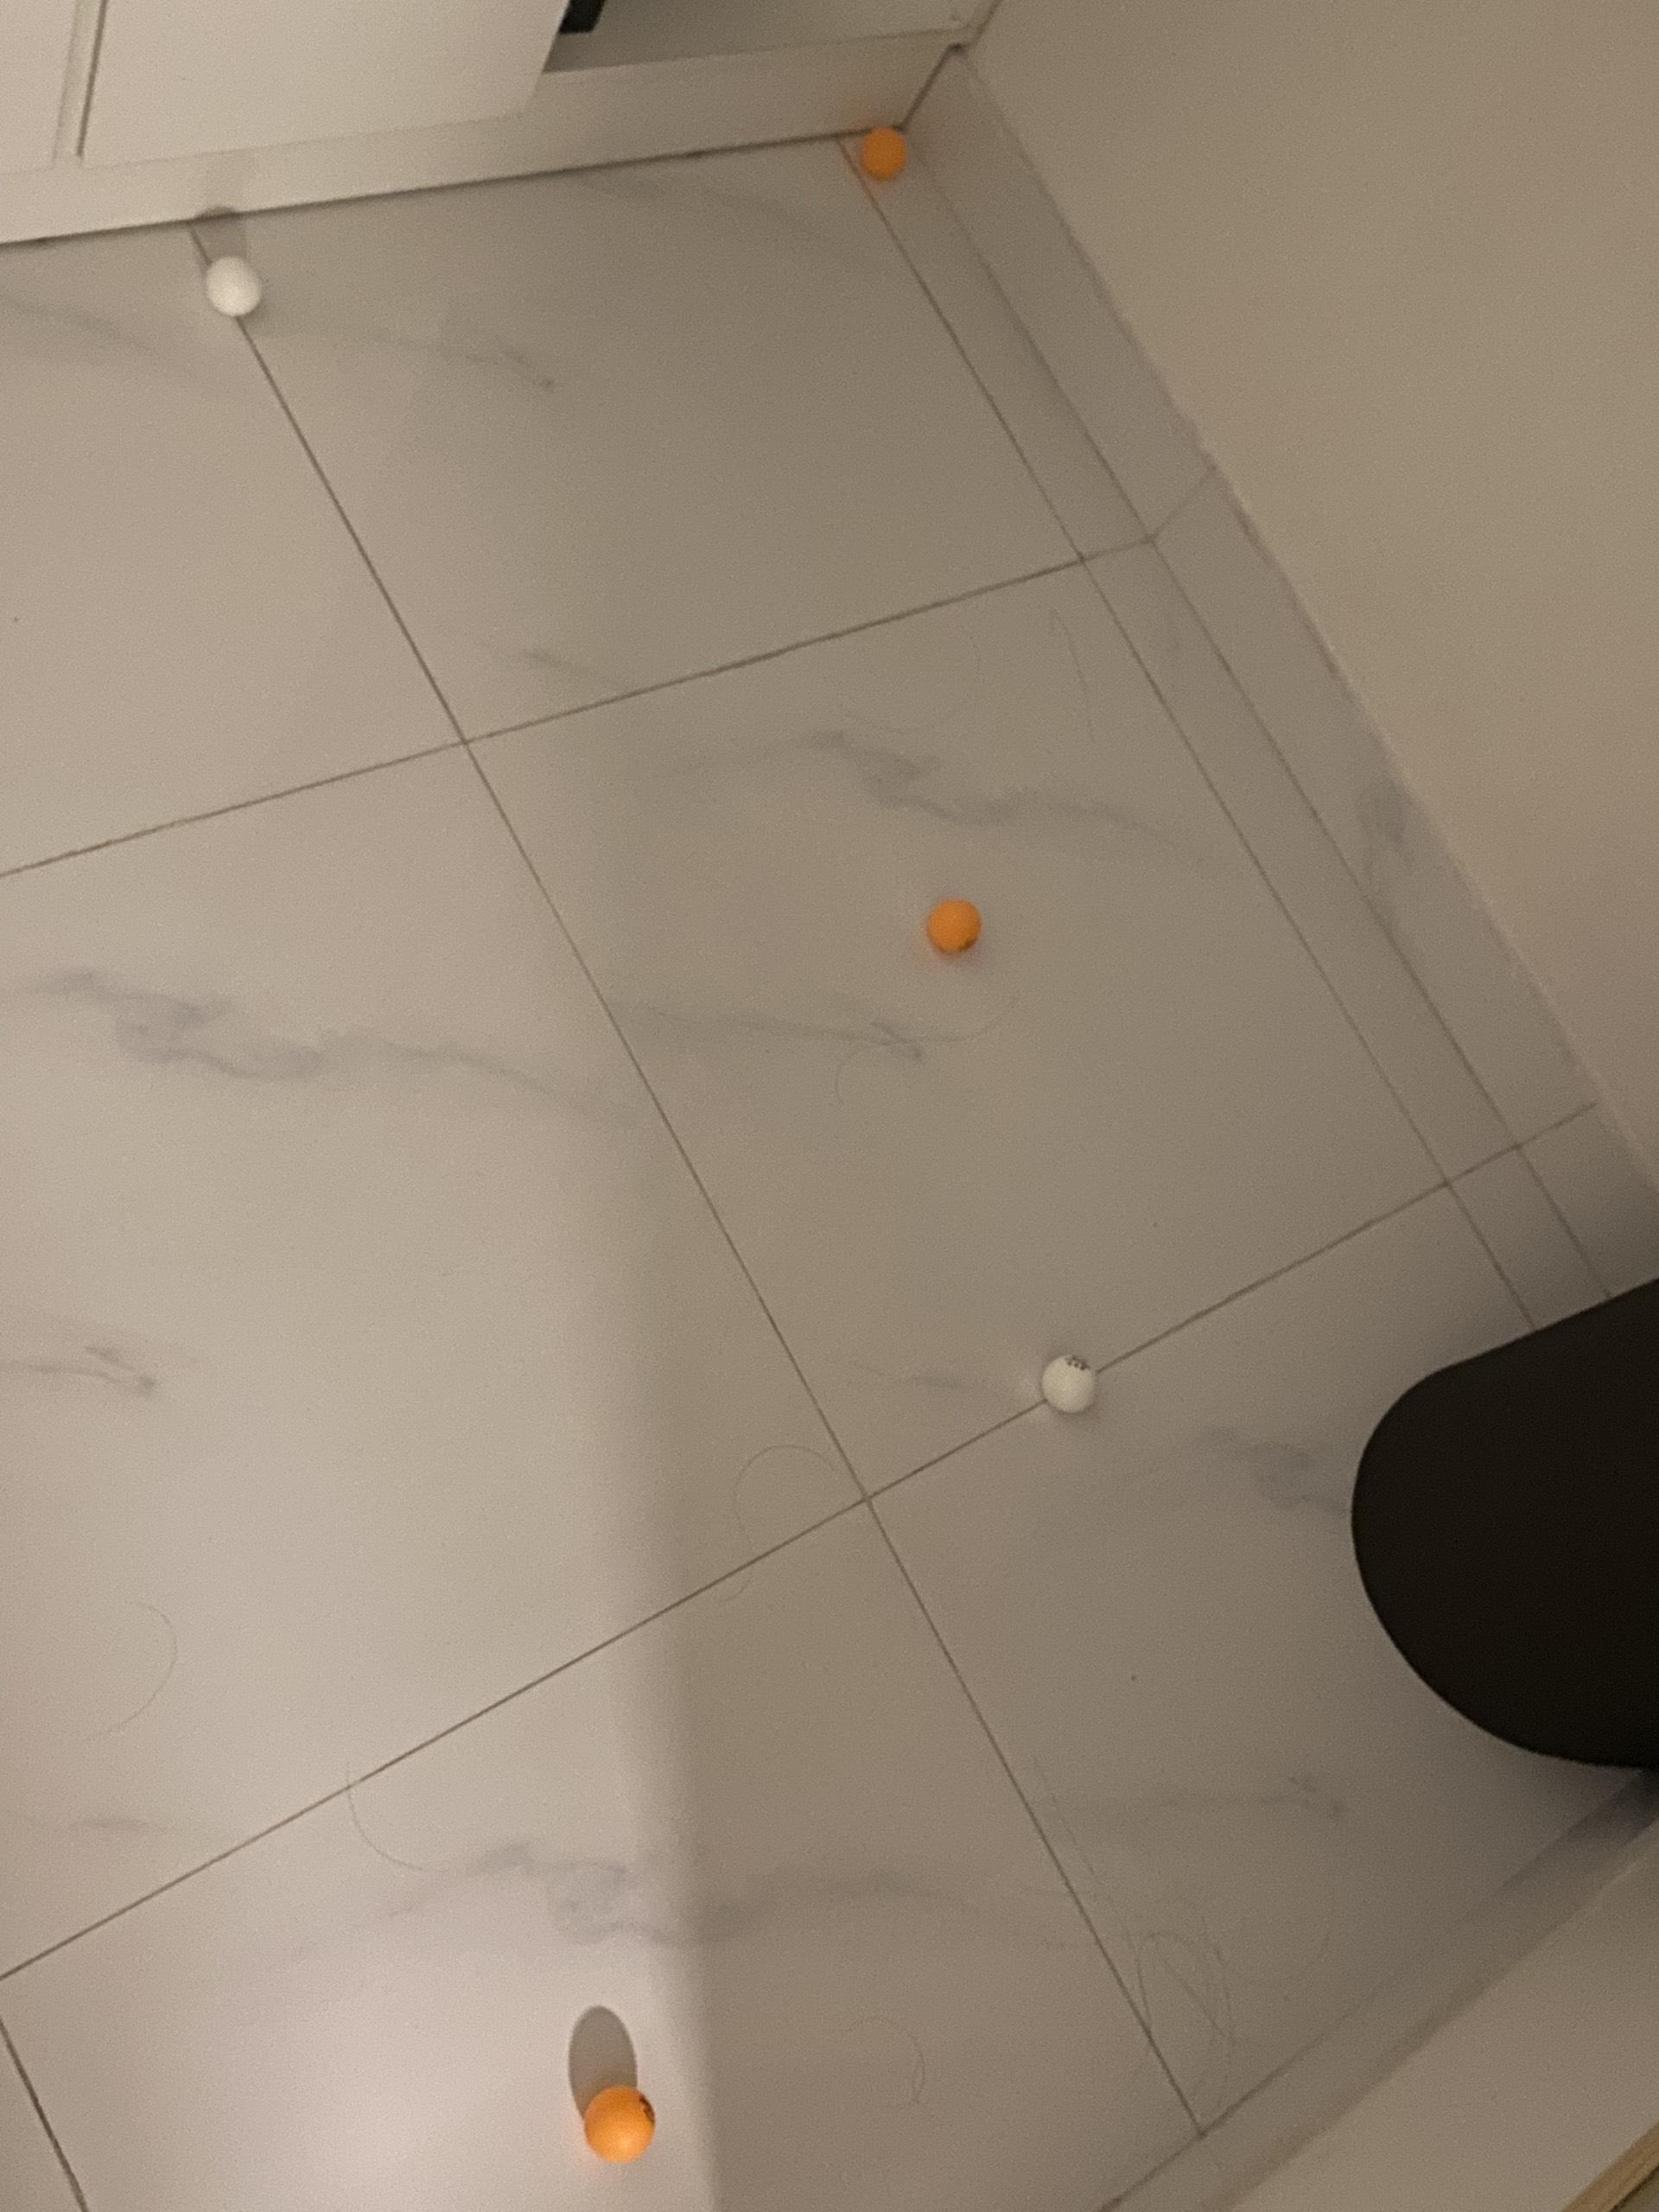oball: (582, 2080, 659, 2167), (925, 895, 985, 960), (861, 129, 910, 186)
